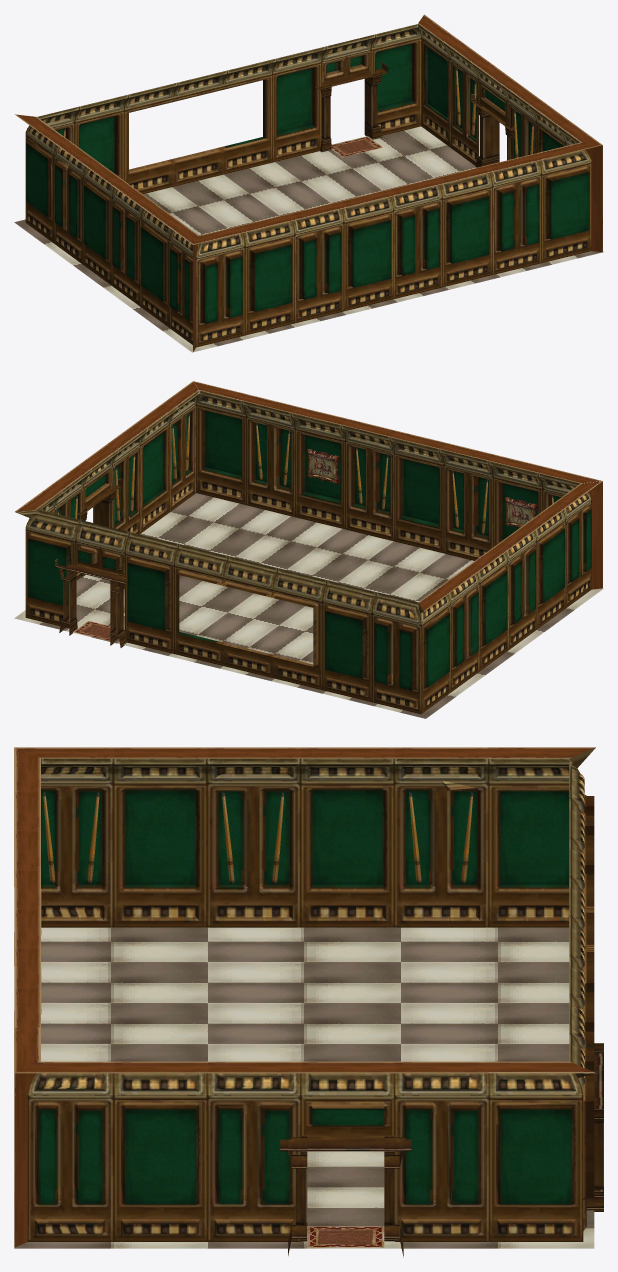
The model's file is Room.fbx.
3 renders of one model, top to bottom at view 1: azimuth 30°, elevation 25°; view 2: azimuth 150°, elevation 25°; view 3: azimuth 270°, elevation 25°, orthographic. The views are drawn at different scales.
Parts seen in each view (by area): view 1: Batch_4.007, Batch_13.007, Batch_14.007, Batch_8.007, Batch_5.007, Batch_6.007, Batch_15.007, Batch_3.007, Batch_7.007, Batch_10.007; view 2: Batch_4.007, Batch_8.007, Batch_5.007, Batch_13.007, Batch_14.007, Batch_6.007, Batch_15.007, Batch_3.007, Batch_16.007, Batch_12.007, Batch_10.007, Batch_7.007; view 3: Batch_4.007, Batch_5.007, Batch_8.007, Batch_6.007, Batch_15.007, Batch_3.007, Batch_10.007, Batch_7.007.
Part boxes in pixels (x1,y1,x2,y2): Batch_4.007: (25, 24, 564, 327); Batch_13.007: (243, 149, 591, 335); Batch_14.007: (196, 161, 541, 347); Batch_8.007: (14, 126, 603, 352); Batch_5.007: (37, 34, 579, 344); Batch_6.007: (15, 14, 602, 351); Batch_15.007: (193, 142, 602, 244); Batch_3.007: (314, 62, 514, 167); Batch_7.007: (331, 136, 382, 157); Batch_10.007: (63, 68, 533, 158); Batch_4.007: (15, 407, 565, 713); Batch_8.007: (14, 493, 603, 718); Batch_5.007: (54, 391, 591, 714); Batch_13.007: (196, 390, 542, 553); Batch_14.007: (242, 401, 591, 589); Batch_6.007: (15, 381, 602, 611); Batch_15.007: (193, 381, 601, 483); Batch_3.007: (55, 479, 127, 647); Batch_16.007: (306, 449, 537, 528); Batch_12.007: (256, 423, 553, 534); Batch_10.007: (57, 414, 190, 521); Batch_7.007: (73, 621, 124, 640); Batch_4.007: (113, 747, 595, 1241); Batch_5.007: (27, 758, 594, 1241); Batch_8.007: (14, 927, 594, 1248); Batch_6.007: (14, 747, 595, 1247); Batch_15.007: (14, 747, 41, 1072); Batch_3.007: (280, 1043, 603, 1257); Batch_10.007: (43, 792, 473, 883); Batch_7.007: (307, 1226, 384, 1247).
Size of the model in its own units: 20550 by 5053 by 15305.
Materials: 8 (8 with a texture image).
